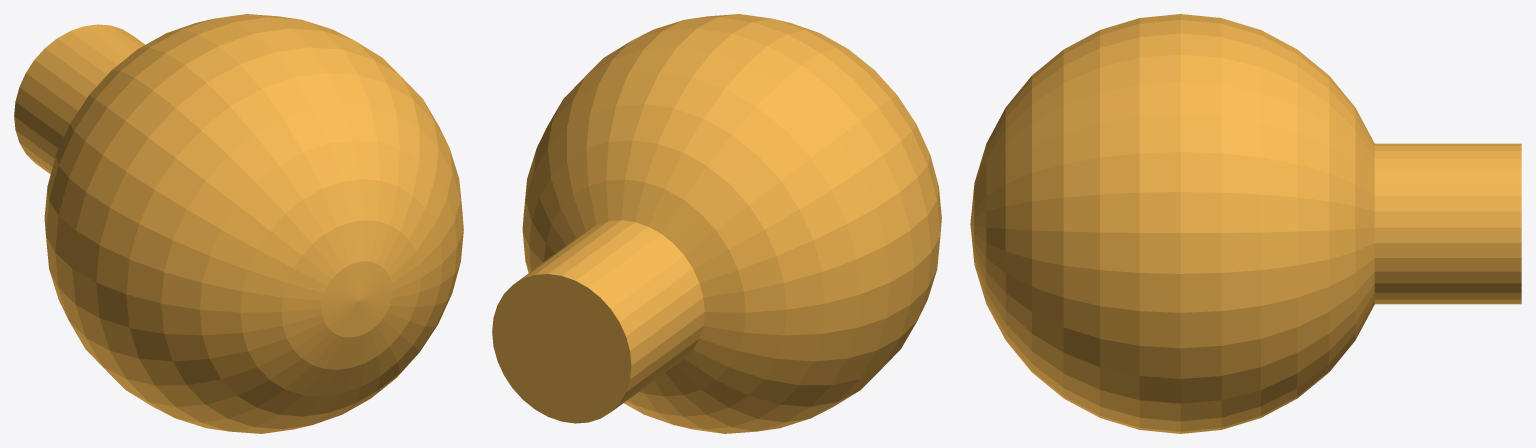
The model's file is door knob .fbx.
3 views of the same model, side by side, from view 1: azimuth 30°, elevation 25°; view 2: azimuth 150°, elevation 25°; view 3: azimuth 270°, elevation 25° (orthographic).
Parts seen in each view (by area): view 1: Sphere; view 2: Sphere; view 3: Sphere.
Part boxes in pixels (x1=…): Sphere: x1=14, y1=14, x2=463, y2=433; Sphere: x1=492, y1=14, x2=941, y2=433; Sphere: x1=970, y1=14, x2=1521, y2=433.
Size of the model in its own units: 91.18 by 91.18 by 120.
1 material, 1 textured.
